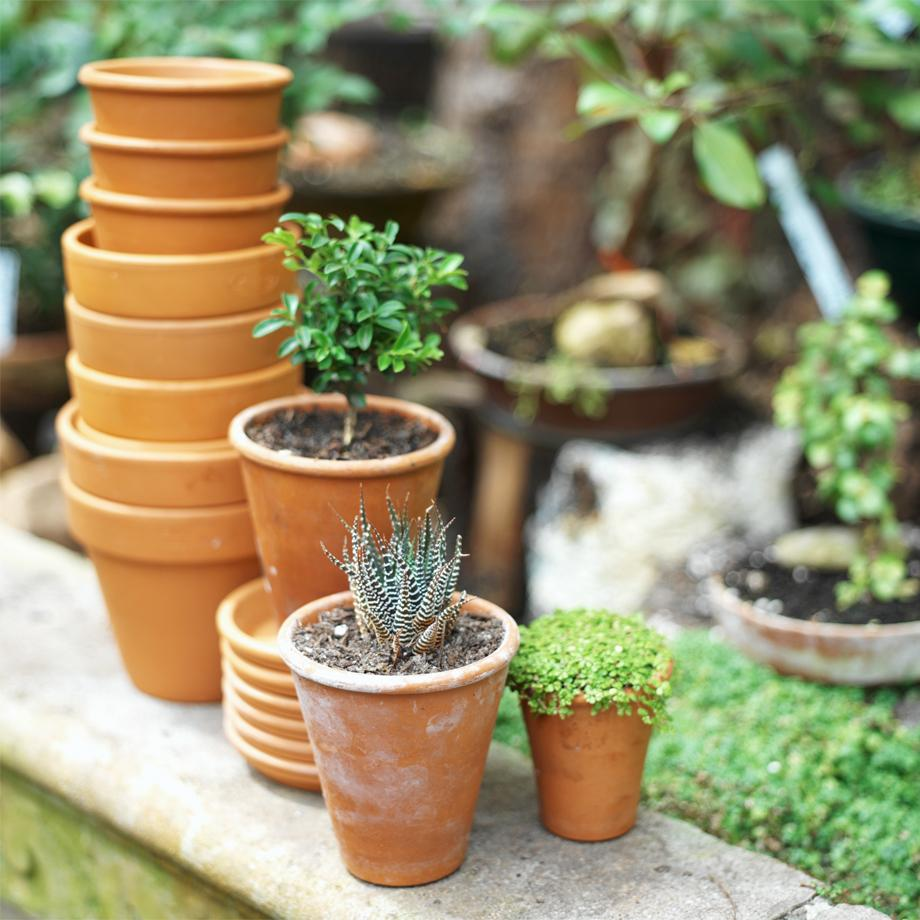flowerPot: (285, 586, 518, 891)
